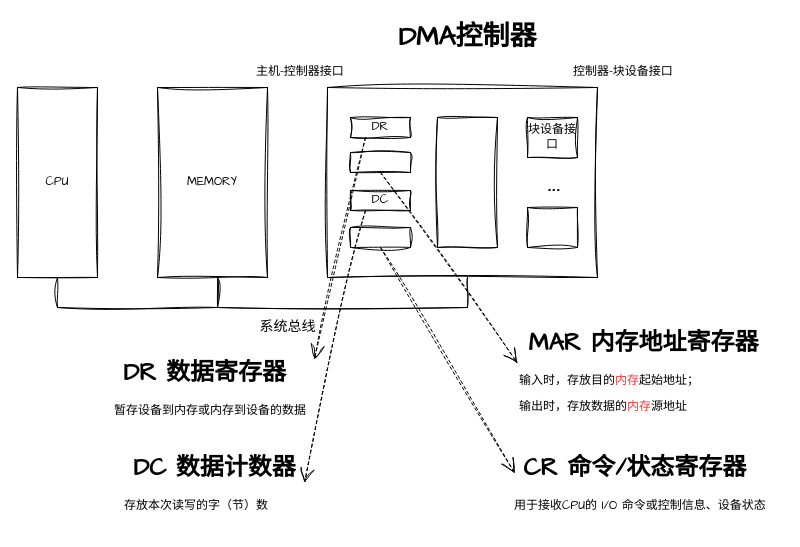
The diagram is 800 pixels wide and 547 high, and some of its shapes have lost their labels. The shapes that lost their labels are listed below. From the top down, each one's centre as x and y in pixels, then its label:
At (x=380, y=162): "MAR".
At (x=467, y=182): "IO逻辑控制".
At (x=380, y=237): "CR".
